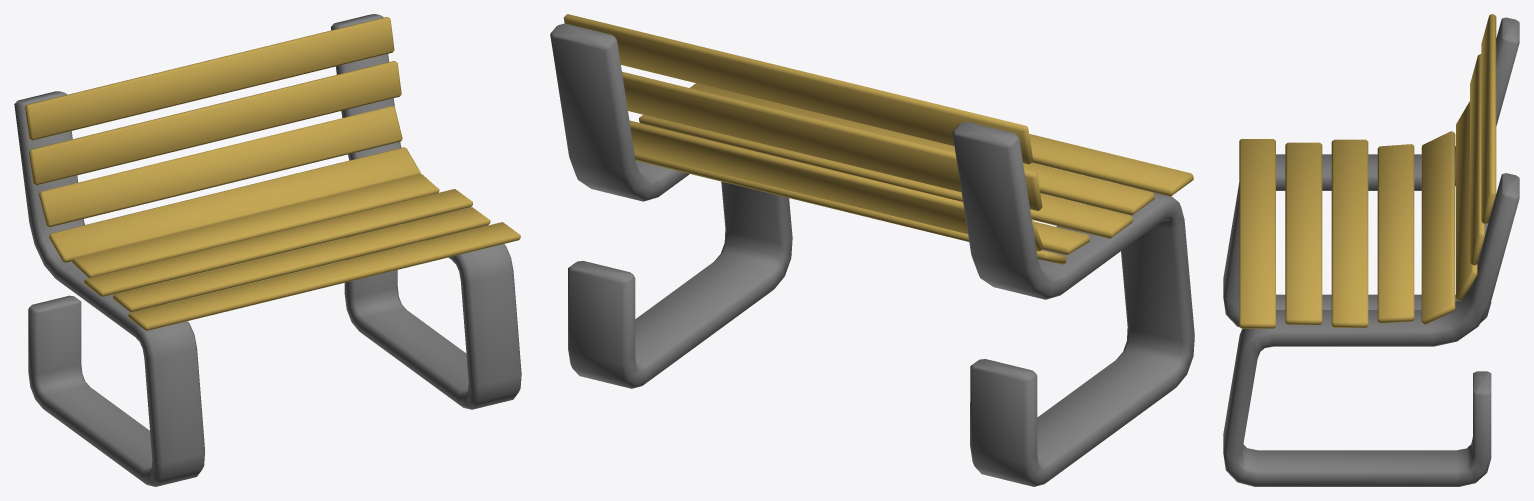
3 views of the same model, side by side, from view 1: azimuth 30°, elevation 25°; view 2: azimuth 150°, elevation 25°; view 3: azimuth 270°, elevation 25° (orthographic). The views are drawn at different scales.
Parts seen in each view (by area): view 1: Vert.017; view 2: Vert.017; view 3: Vert.017.
Boxes of the visible parts, <box> form: Vert.017: <box>14,14,521,486</box>; Vert.017: <box>550,14,1194,486</box>; Vert.017: <box>1223,14,1519,486</box>.
Bounding box in the file's own units: 119 × 88.85 × 80.44.
